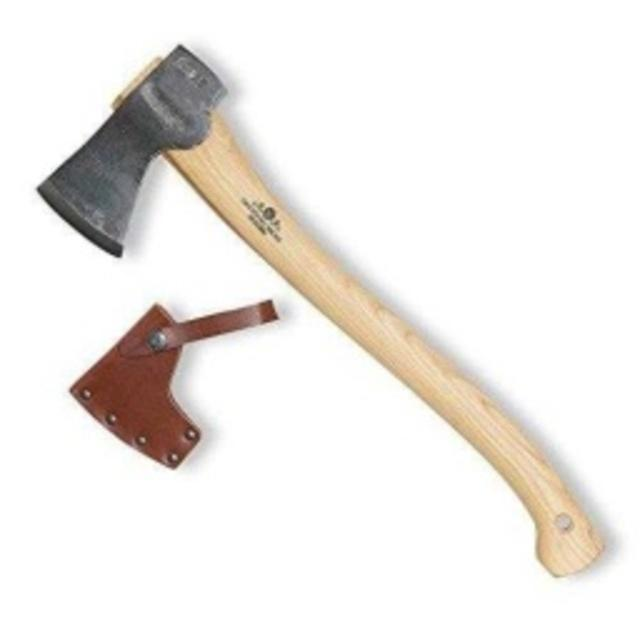ax: (30, 34, 613, 586)
